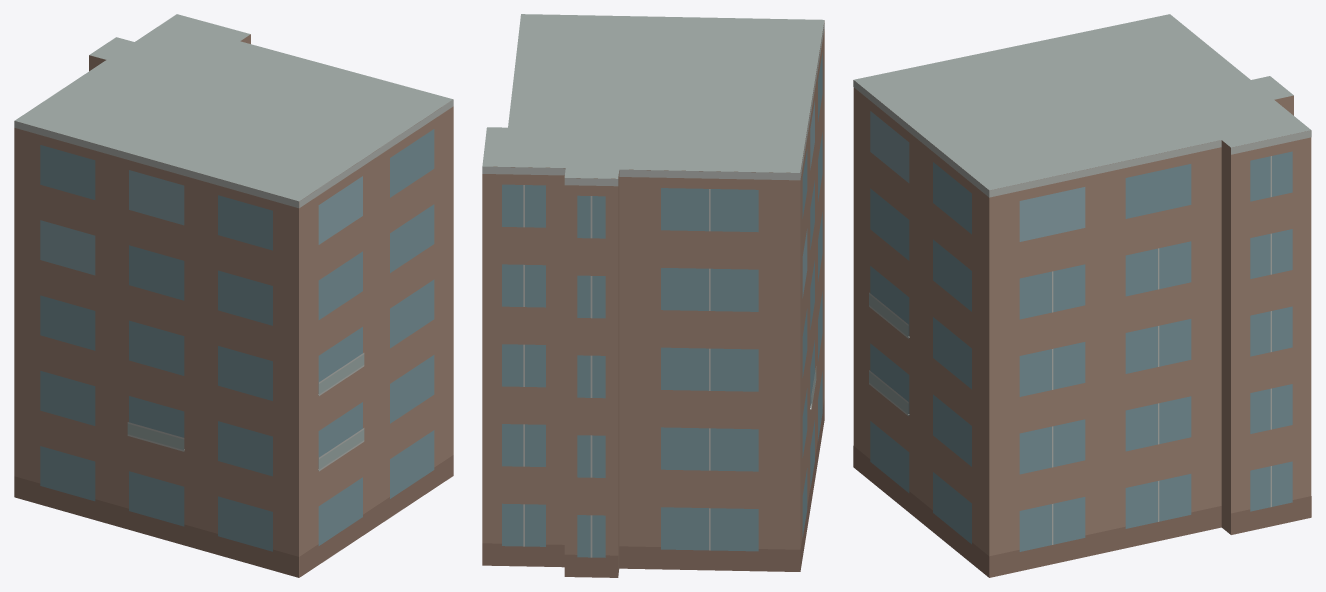
The model's file is survey-upis-32746341.glb.
3 views of the same model, side by side, from view 1: azimuth 30°, elevation 25°; view 2: azimuth 150°, elevation 25°; view 3: azimuth 270°, elevation 25° (orthographic). The views are drawn at different scales.
Parts seen in each view (by area): view 1: survey-upis-32746341.tmp; view 2: survey-upis-32746341.tmp; view 3: survey-upis-32746341.tmp.
Part boxes in pixels (box(x1,y1,x2,y2)): survey-upis-32746341.tmp: box(14, 14, 453, 577); survey-upis-32746341.tmp: box(482, 14, 824, 577); survey-upis-32746341.tmp: box(853, 14, 1311, 577).
Bounding box in the file's own units: 12.85 × 13.15 × 14.1.
